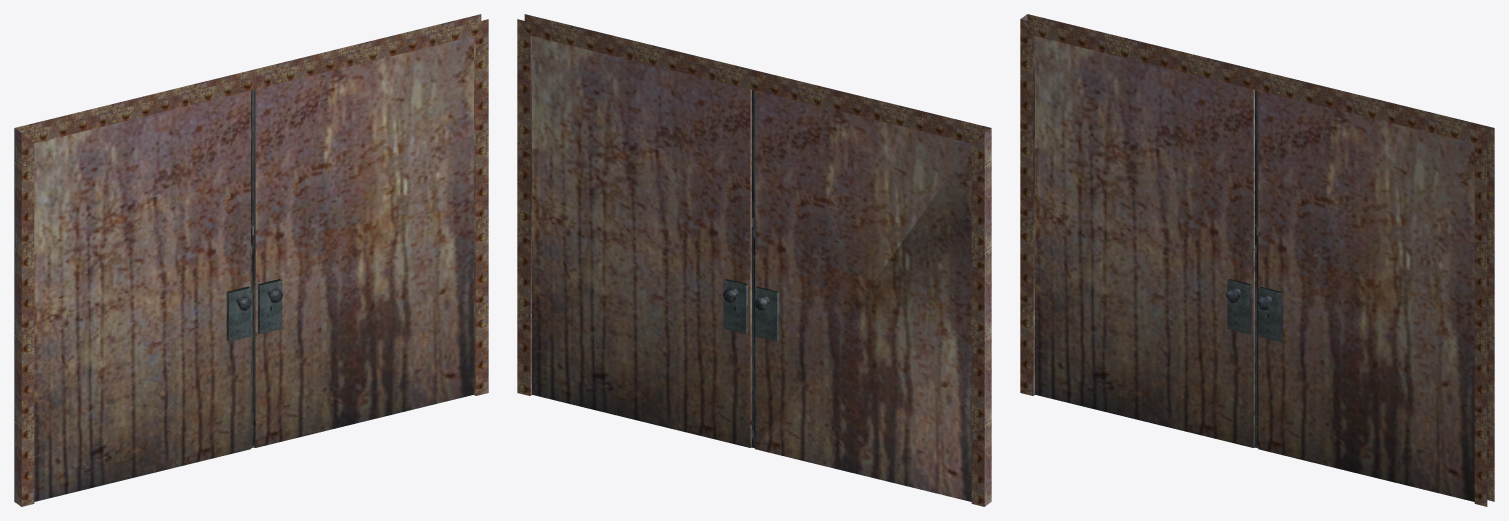
File: RB_Dor.glb
3 renders of one model, left to right at view 1: azimuth 30°, elevation 25°; view 2: azimuth 150°, elevation 25°; view 3: azimuth 330°, elevation 25°, orthographic.
Visible parts, largest first — view 1: _RB_Dor; view 2: _RB_Dor; view 3: _RB_Dor.
Boxes of the visible parts, left/top/right/bottom form: _RB_Dor: left=14, top=14, right=488, bottom=506; _RB_Dor: left=517, top=14, right=991, bottom=506; _RB_Dor: left=1020, top=14, right=1494, bottom=506.
Size of the model in its own units: 3.4 by 2.6 by 0.2814.
Materials: 1 (1 with a texture image).
